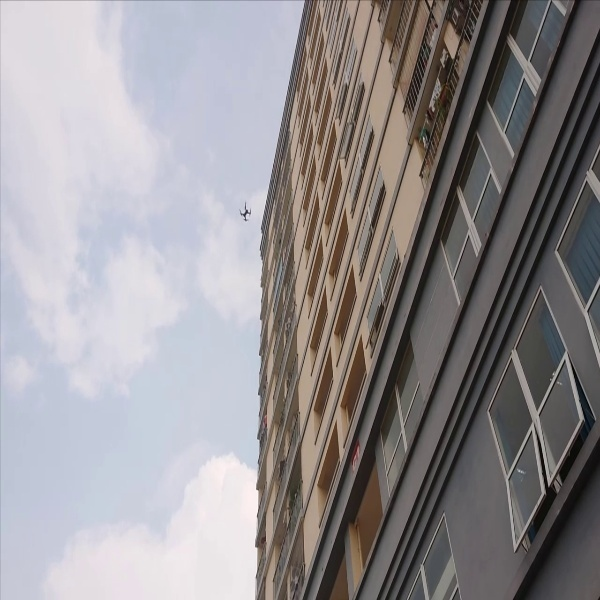drone: (234, 194, 256, 224)
